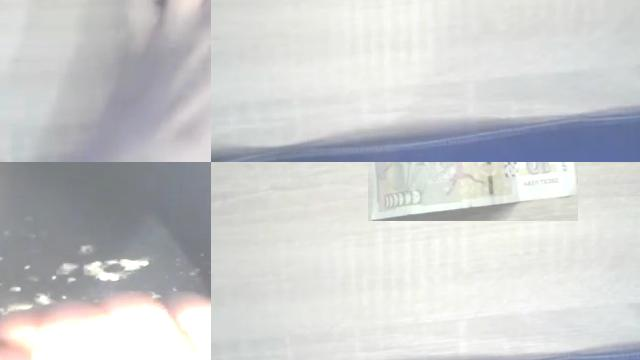10leva: (370, 162, 578, 221)
